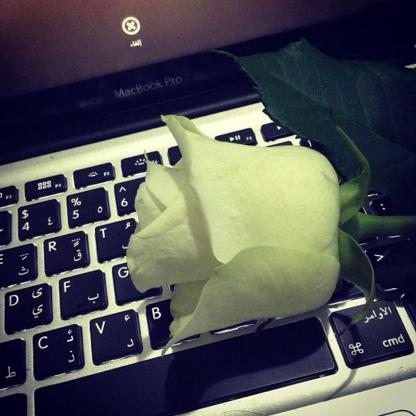board: (0, 2, 411, 416)
